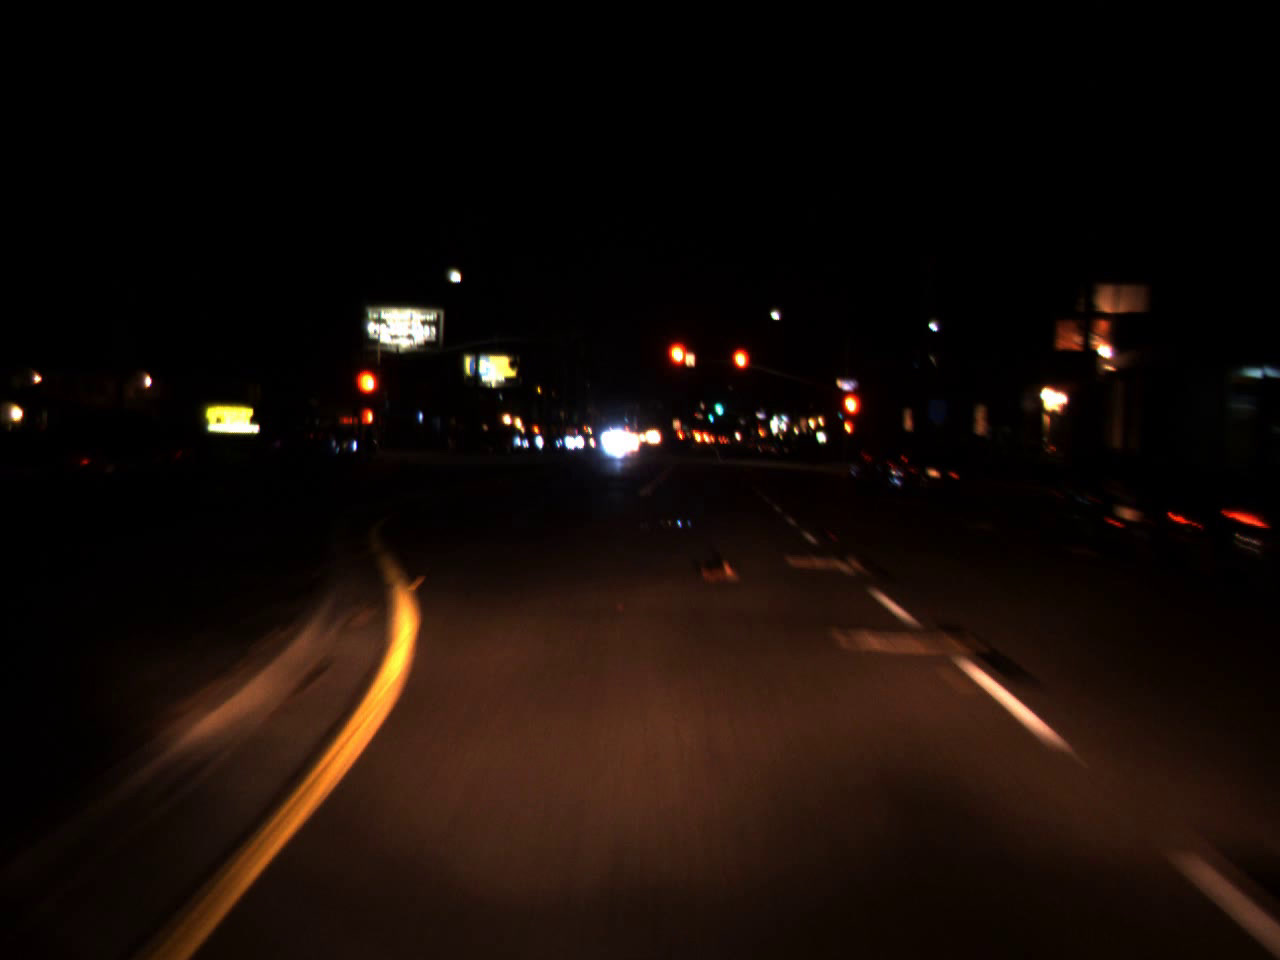go: (712, 390, 724, 417), (703, 402, 715, 426)
stop: (665, 339, 695, 393), (353, 366, 380, 422), (840, 389, 862, 443), (730, 345, 751, 393)
